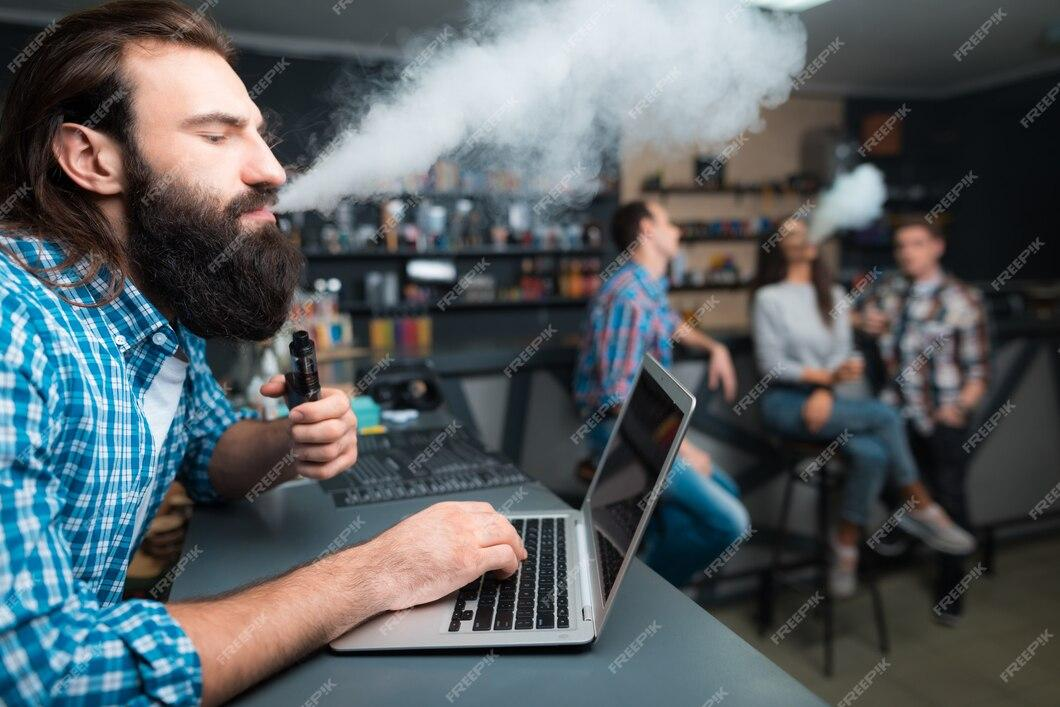Vape: (284, 329, 322, 410)
